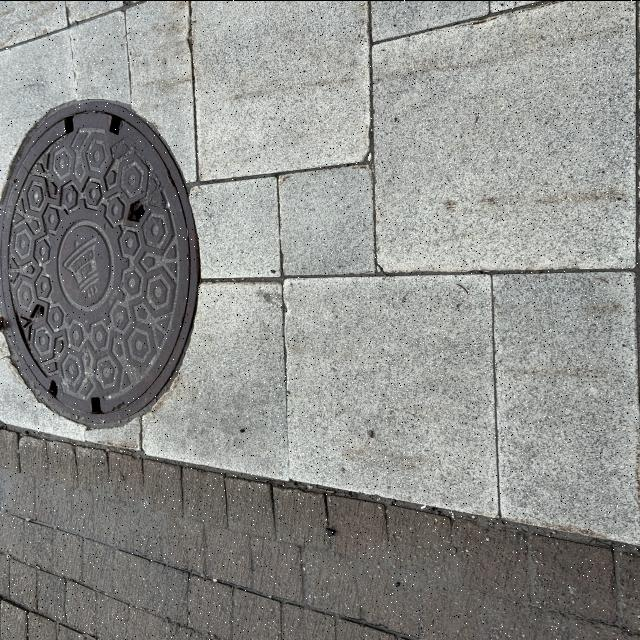Manhole: (3, 93, 199, 427)
